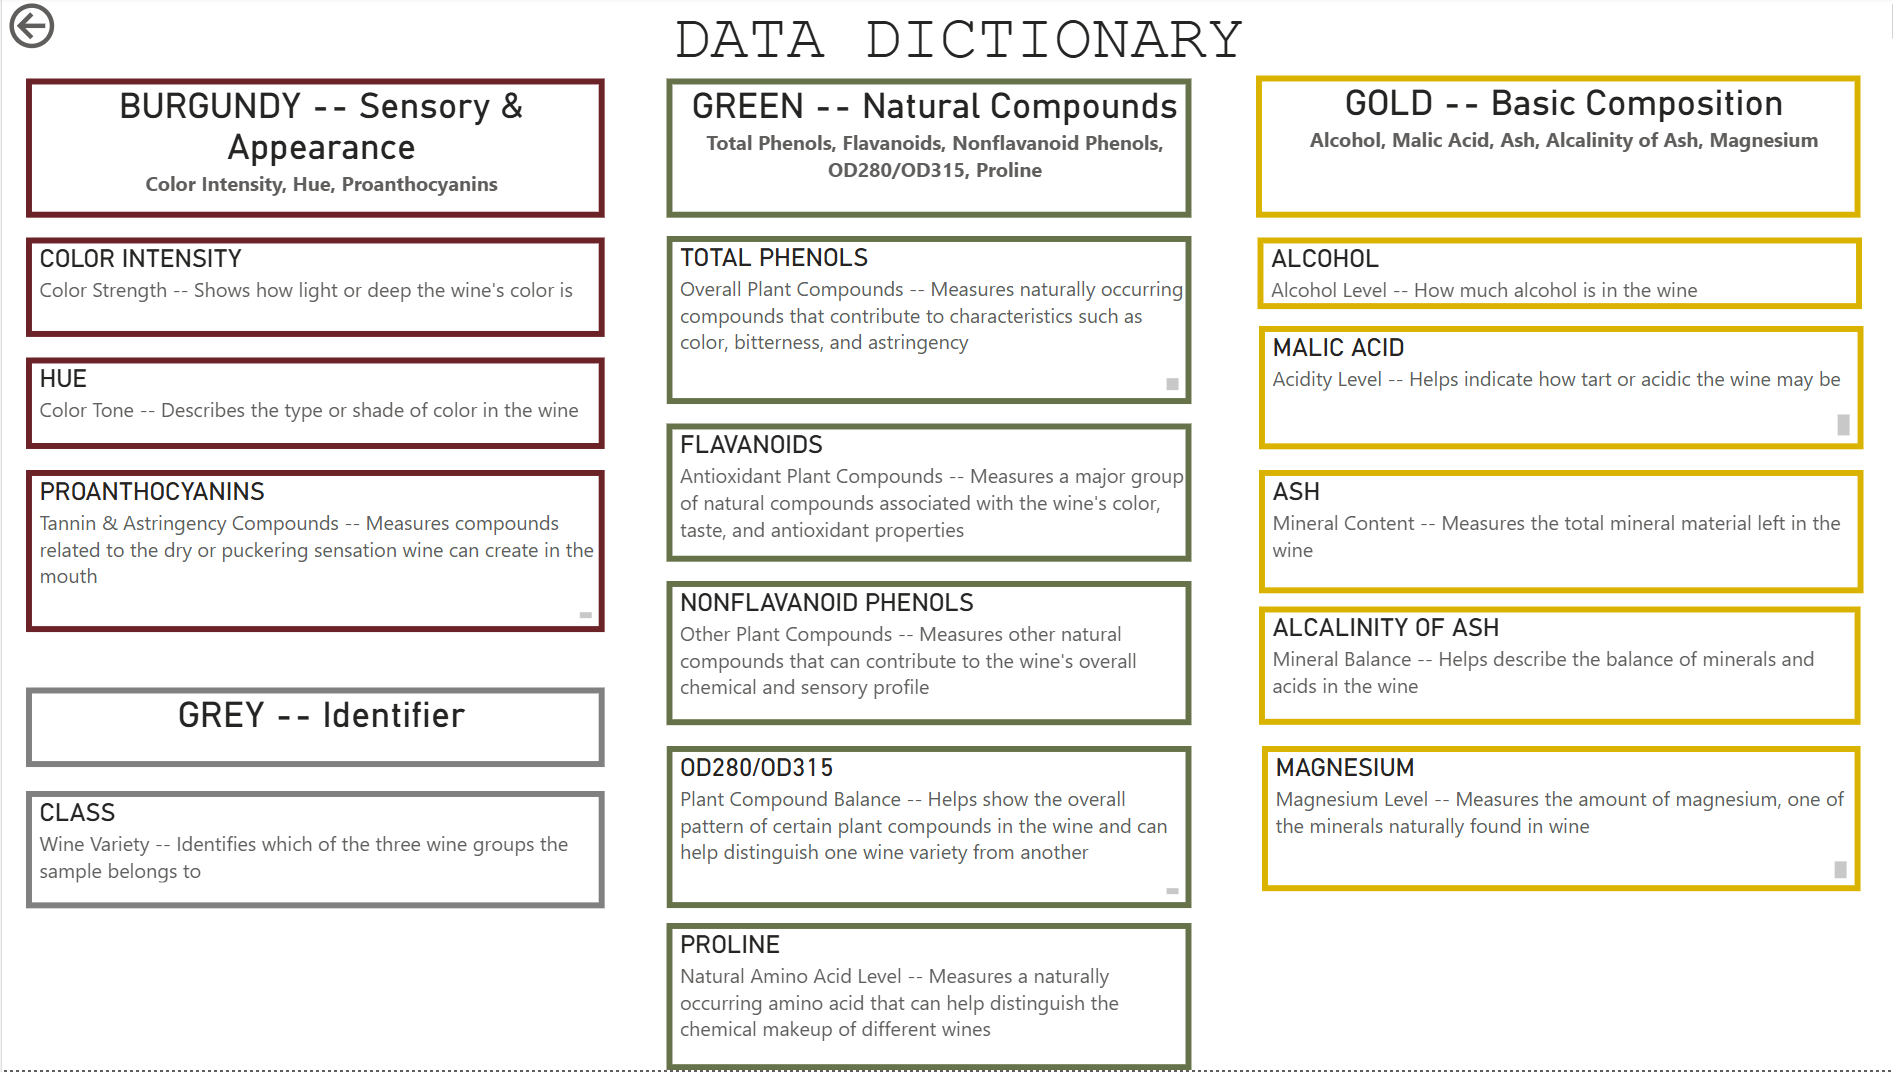

This screenshot's page, from the dashboard's own definition file:
{"tool":"powerbi","page":{"name":"Data Dictionary","canvas":[1280,720],"ordinal":3},"visuals":[{"type":"textbox","box":[10.1,0,1270.3,54.3],"z":0},{"type":"textbox","title":"ALCOHOL","box":[841.8,161.9,405.3,48.3],"z":1000},{"type":"textbox","title":"MALIC ACID","box":[842.8,221.3,405.3,82.5],"z":2000},{"type":"textbox","title":"MAGNESIUM","box":[844.8,502.9,401.3,97.6],"z":3000},{"type":"textbox","title":"ASH","box":[842.8,317.8,405.3,82.5],"z":4000},{"type":"textbox","title":"ALCALINITY OF ASH","box":[842.8,409.3,403.3,79.5],"z":5000},{"type":"textbox","title":"TOTAL PHENOLS","box":[445.6,160.9,352,112.6],"z":6000},{"type":"textbox","title":"PROANTHOCYANINS","box":[16.1,317.8,388.2,108.6],"z":7000},{"type":"textbox","title":"COLOR INTENSITY","box":[16.1,161.9,388.2,66.4],"z":8000},{"type":"textbox","title":"FLAVANOIDS","box":[445.6,286.6,352,92.5],"z":9000},{"type":"textbox","title":"NONFLAVANOID PHENOLS","box":[445.6,392.3,352,96.6],"z":10000},{"type":"textbox","title":"HUE","box":[16.1,242.4,388.2,61.4],"z":11000},{"type":"textbox","title":"OD280/OD315","box":[445.6,502.9,352,108.6],"z":12000},{"type":"textbox","title":"PROLINE","box":[445.6,621.6,352,98.6],"z":13000},{"type":"textbox","title":"CLASS","box":[16.1,533.1,388.2,78.5],"z":14000},{"type":"textbox","title":"GREEN -- Natural Compounds","box":[445.6,55.3,352,93.5],"z":14001},{"type":"textbox","title":"GOLD -- Basic Composition","box":[840.8,53.3,405.3,95.5],"z":14002},{"type":"textbox","title":"BURGUNDY -- Sensory & Appearance","box":[16.1,55.3,388.2,93.5],"z":14003},{"type":"textbox","title":"GREY -- Identifier","box":[16.1,463.7,388.2,53.3],"z":14004},{"type":"actionButton","box":[0,0,100,40],"z":14005}]}

Visuals, with their boxes in screenshot pixels (x1, y1, x2, y2), scaled from the page's 1280x720 canvas onto the 1893x1072 screenshot:
textbox: <bbox>15, 0, 1892, 81</bbox>
"ALCOHOL" textbox: <bbox>1245, 241, 1844, 313</bbox>
"MALIC ACID" textbox: <bbox>1246, 329, 1846, 452</bbox>
"MAGNESIUM" textbox: <bbox>1249, 749, 1843, 894</bbox>
"ASH" textbox: <bbox>1246, 473, 1846, 596</bbox>
"ALCALINITY OF ASH" textbox: <bbox>1246, 609, 1843, 728</bbox>
"TOTAL PHENOLS" textbox: <bbox>659, 240, 1180, 407</bbox>
"PROANTHOCYANINS" textbox: <bbox>24, 473, 598, 635</bbox>
"COLOR INTENSITY" textbox: <bbox>24, 241, 598, 340</bbox>
"FLAVANOIDS" textbox: <bbox>659, 427, 1180, 564</bbox>
"NONFLAVANOID PHENOLS" textbox: <bbox>659, 584, 1180, 728</bbox>
"HUE" textbox: <bbox>24, 361, 598, 452</bbox>
"OD280/OD315" textbox: <bbox>659, 749, 1180, 910</bbox>
"PROLINE" textbox: <bbox>659, 925, 1180, 1071</bbox>
"CLASS" textbox: <bbox>24, 794, 598, 911</bbox>
"GREEN -- Natural Compounds" textbox: <bbox>659, 82, 1180, 222</bbox>
"GOLD -- Basic Composition" textbox: <bbox>1243, 79, 1843, 222</bbox>
"BURGUNDY -- Sensory & Appearance" textbox: <bbox>24, 82, 598, 222</bbox>
"GREY -- Identifier" textbox: <bbox>24, 690, 598, 770</bbox>
actionButton: <bbox>0, 0, 148, 60</bbox>
